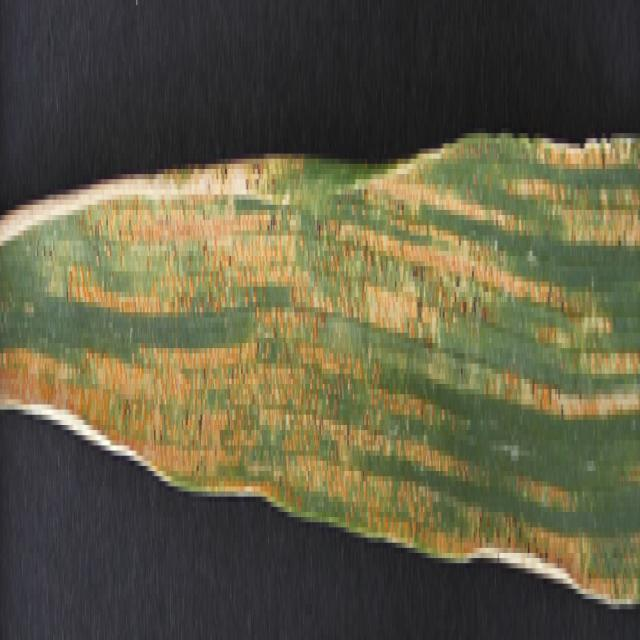leaf rust: (1, 87, 638, 604)
